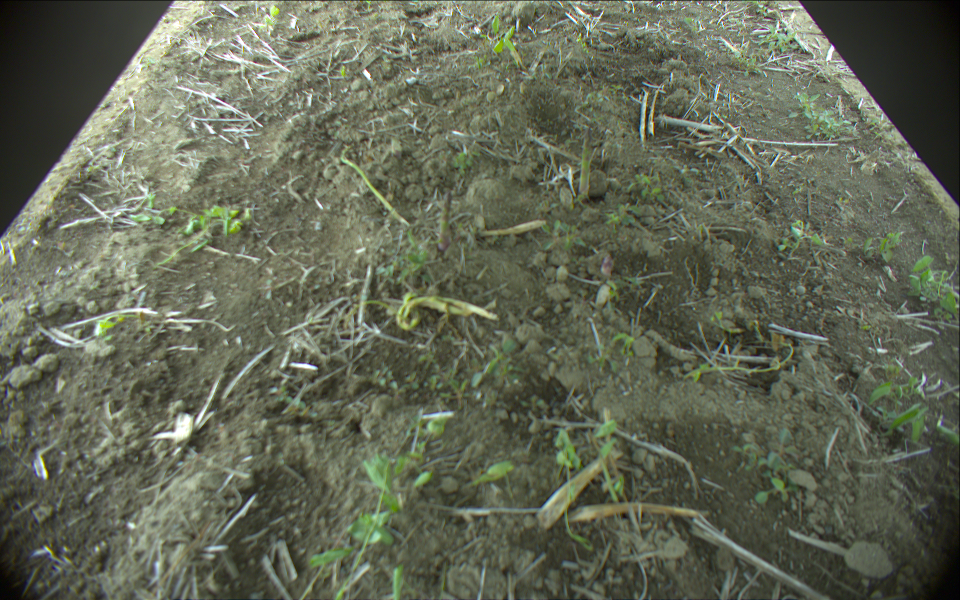aspa: (339, 146, 410, 229), (396, 292, 498, 335), (575, 124, 594, 199), (437, 191, 455, 254)
